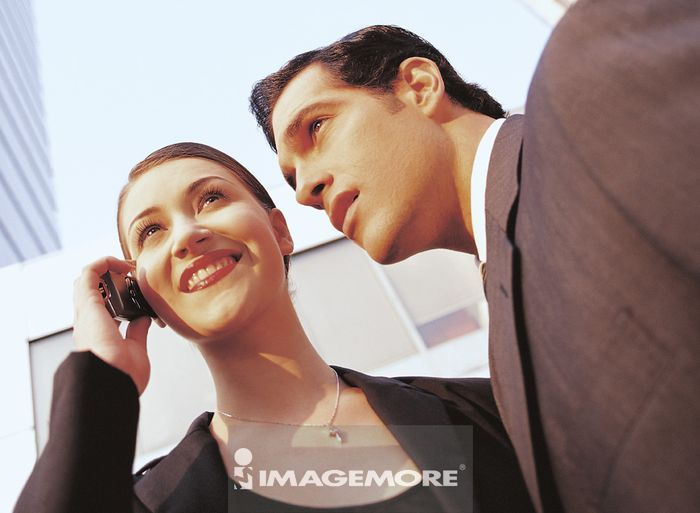talk: (68, 173, 263, 376)
